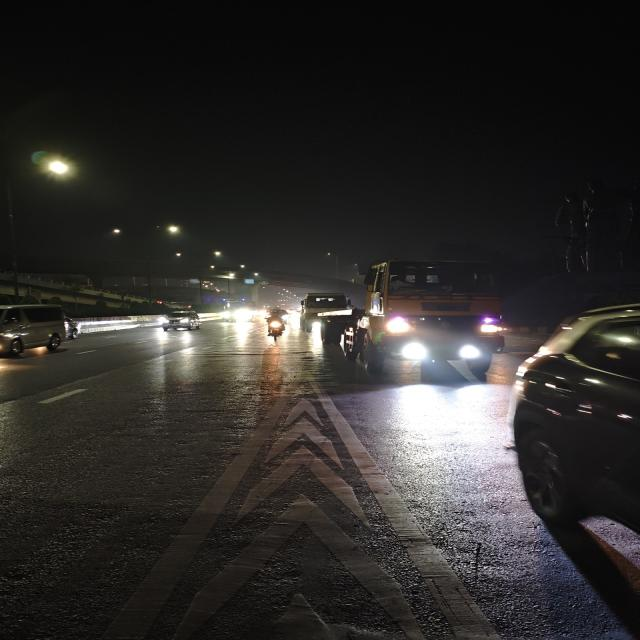car: (0, 301, 83, 364), (154, 307, 207, 333)
motorcycle: (260, 308, 293, 342)
truck: (331, 257, 511, 385), (300, 286, 345, 332)
